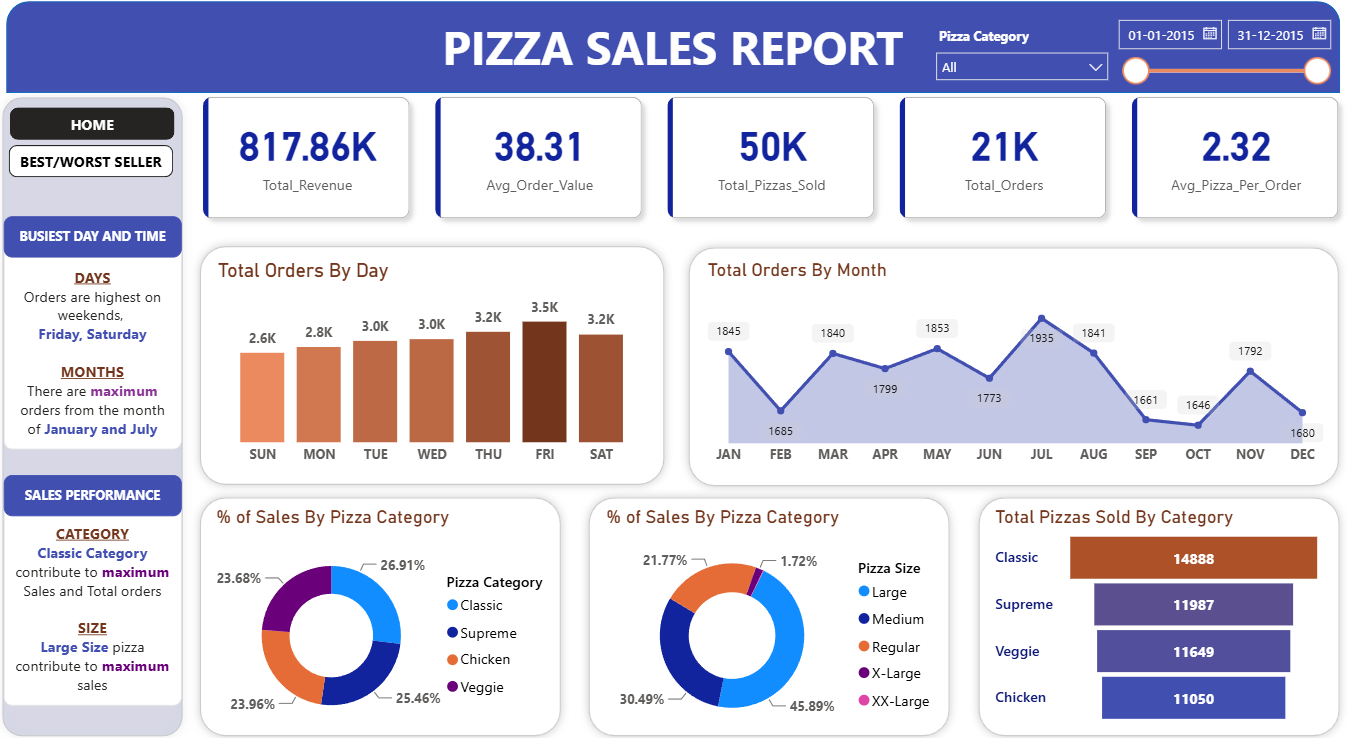

What the dashboard file says about the page in this screenshot:
{"tool":"powerbi","page":{"name":"HOME","canvas":[1280,720],"ordinal":0},"visuals":[{"type":"cardVisual","fields":{"Data":["pizza_db pizzasales_db.Total_Revenue","pizza_db pizzasales_db.Avg_Order_Value","pizza_db pizzasales_db.Total_Pizzas_Sold","pizza_db pizzasales_db.Total_Orders","pizza_db pizzasales_db.Avg_Pizza_Per_Order"]},"box":[185.5,83,1094.5,147],"z":0},{"type":"shape","box":[191.5,230.7,448.2,238.2],"z":1000},{"type":"shape","box":[19.5,10,1240.9,85.5],"z":2000},{"type":"textbox","box":[399,19,482,68],"z":3000},{"type":"columnChart","title":"Total Orders By Day","fields":{"Category":["pizza_db pizzasales_db.Order_Day"],"Y":["pizza_db pizzasales_db.Total_Orders"]},"box":[211.5,249.8,409.1,200.9],"z":4000},{"type":"shape","box":[646.9,231.6,620.9,238.2],"z":5000},{"type":"areaChart","title":"Total Orders By Month","fields":{"Y":["pizza_db pizzasales_db.Total_Orders"],"Category":["pizza_db pizzasales_db.Order_Month"]},"box":[666.9,249.8,582.7,200.9],"z":6000},{"type":"shape","box":[191.5,464.4,351.8,238.2],"z":7000},{"type":"shape","box":[553.7,464.4,351.8,238.2],"z":8000},{"type":"shape","box":[916,464.4,351.8,238.2],"z":9000},{"type":"donutChart","title":"% of Sales By Pizza Category","fields":{"Category":["pizza_db pizzasales_db.pizza_category"],"Y":["pizza_db pizzasales_db.Total_Revenue"]},"box":[210.5,480.7,332.7,221.8],"z":10000},{"type":"donutChart","title":"% of Sales By Pizza Category","fields":{"Category":["pizza_db pizzasales_db.pizza_size"],"Y":["pizza_db pizzasales_db.Total_Revenue"]},"box":[573.3,480.7,322.7,221.8],"z":11000},{"type":"funnel","title":"Total Pizzas Sold By Category","fields":{"Y":["pizza_db pizzasales_db.Total_Pizzas_Sold"],"Category":["pizza_db pizzasales_db.pizza_category"]},"box":[935.1,480.7,314.5,207.3],"z":12000},{"type":"shape","box":[8.1,92.2,183.7,610.4],"z":13000},{"type":"textbox","box":[17.3,231.8,165.5,196.4],"z":14000},{"type":"textbox","box":[17.3,210.9,165.5,38.2],"z":15000},{"type":"textbox","box":[17.3,470,165.5,196.4],"z":16000},{"type":"textbox","box":[17.3,450.9,165.5,38.2],"z":17000},{"type":"slicer","fields":{"Values":["pizza_db pizzasales_db.pizza_category"]},"box":[874.7,30,180.6,57.1],"z":18000},{"type":"slicer","fields":{"Values":["pizza_db pizzasales_db.order_date"]},"box":[1041.5,17.7,218.5,80.8],"z":19000},{"type":"pageNavigator","box":[22.2,143.7,153.6,30.4],"z":19001},{"type":"pageNavigator","box":[23,109.6,153.7,30.4],"z":19002}]}

Visuals, with their boxes in screenshot pixels (x1, y1, x2, y2), scaled from the page's 1280x720 canvas onto the 1348x738 screenshot:
cardVisual - pizza_db pizzasales_db.Total_Revenue x pizza_db pizzasales_db.Avg_Order_Value: {"left": 195, "top": 85, "right": 1347, "bottom": 236}
shape: {"left": 202, "top": 236, "right": 674, "bottom": 481}
shape: {"left": 21, "top": 10, "right": 1327, "bottom": 98}
textbox: {"left": 420, "top": 19, "right": 928, "bottom": 89}
"Total Orders By Day" columnChart: {"left": 223, "top": 256, "right": 654, "bottom": 462}
shape: {"left": 681, "top": 237, "right": 1335, "bottom": 482}
"Total Orders By Month" areaChart: {"left": 702, "top": 256, "right": 1316, "bottom": 462}
shape: {"left": 202, "top": 476, "right": 572, "bottom": 720}
shape: {"left": 583, "top": 476, "right": 954, "bottom": 720}
shape: {"left": 965, "top": 476, "right": 1335, "bottom": 720}
"% of Sales By Pizza Category" donutChart: {"left": 222, "top": 493, "right": 572, "bottom": 720}
"% of Sales By Pizza Category" donutChart: {"left": 604, "top": 493, "right": 944, "bottom": 720}
"Total Pizzas Sold By Category" funnel: {"left": 985, "top": 493, "right": 1316, "bottom": 705}
shape: {"left": 9, "top": 95, "right": 202, "bottom": 720}
textbox: {"left": 18, "top": 238, "right": 193, "bottom": 439}
textbox: {"left": 18, "top": 216, "right": 193, "bottom": 255}
textbox: {"left": 18, "top": 482, "right": 193, "bottom": 683}
textbox: {"left": 18, "top": 462, "right": 193, "bottom": 501}
slicer - pizza_db pizzasales_db.pizza_category: {"left": 921, "top": 31, "right": 1111, "bottom": 89}
slicer - pizza_db pizzasales_db.order_date: {"left": 1097, "top": 18, "right": 1327, "bottom": 101}
pageNavigator: {"left": 23, "top": 147, "right": 185, "bottom": 178}
pageNavigator: {"left": 24, "top": 112, "right": 186, "bottom": 144}
